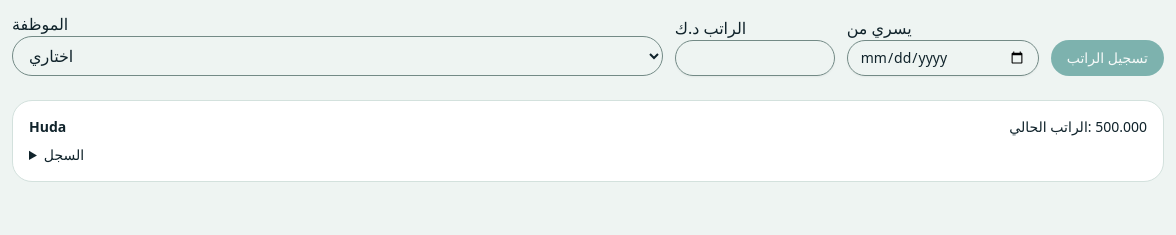
maps SALARY_MONTH_CLOSED to a clear message
Select "Huda" in the dropdown labelled "الموظفة" at x=337, y=56, box [12,36,663,76]
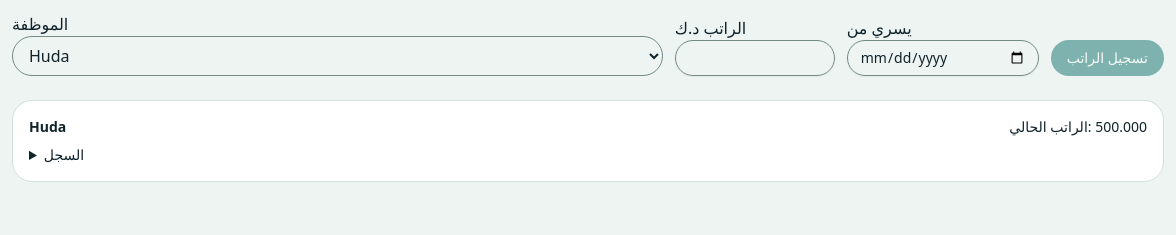
Type "525.000" into the field labelled "الراتب د.ك" at x=755, y=58, box [675,40,835,76]
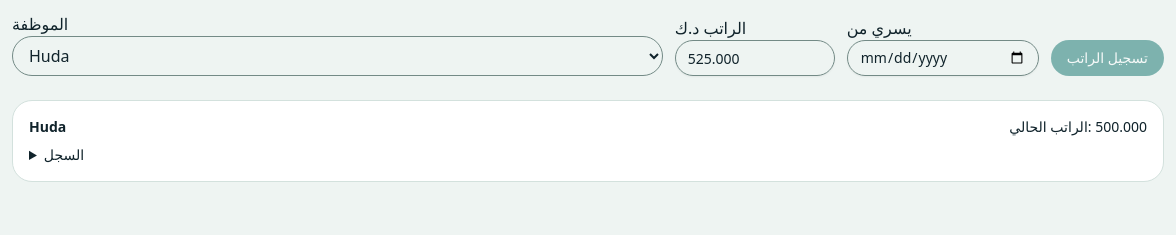
Type "2026-10-01" into the date field labelled "يسري من" at x=943, y=58, box [847,40,1039,76]
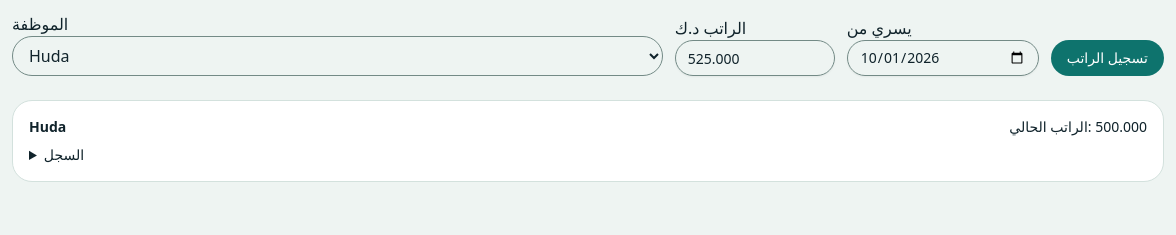
Click the button "تسجيل الراتب" at x=1107, y=58, box [1051,40,1164,76]
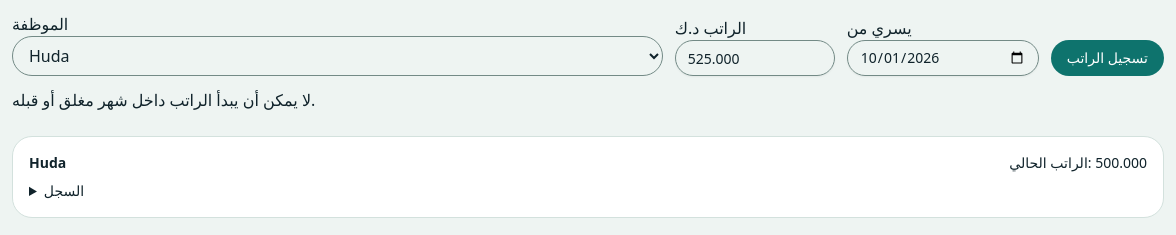
Now the text "لا يمكن أن يبدأ الراتب داخل شهر مغلق أو قبله." is shown, box [12,89,315,111]
